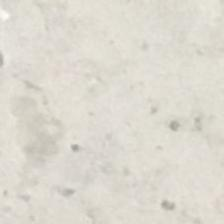Non_Crack: (18, 35, 208, 189)
